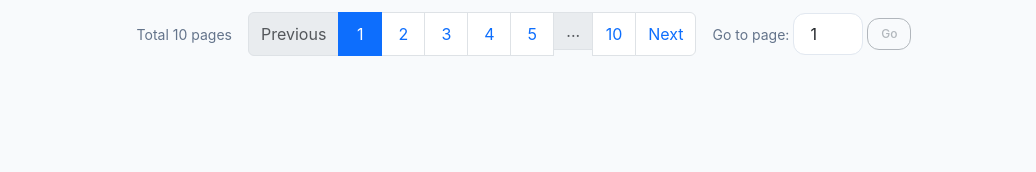
Pagination Component › Jump input › should show error for input less than 1
Replace the text in the number field named "Go to page" with "0" at (828, 34), box x1=793 y1=13 x2=863 y2=55
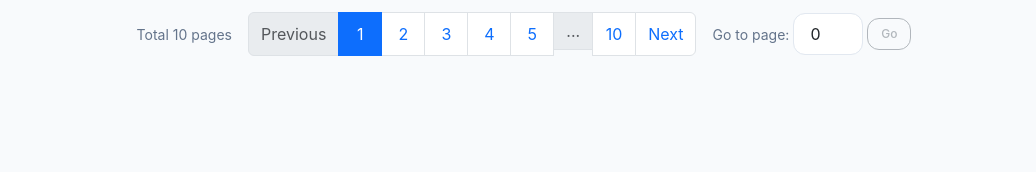
Press Enter in the number field named "Go to page", box x1=793 y1=13 x2=863 y2=55
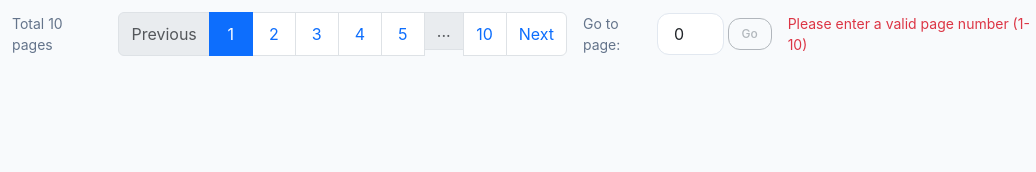
Check: the message "Please enter a valid page number (1-10)" is shown, box x1=788 y1=13 x2=1035 y2=55
